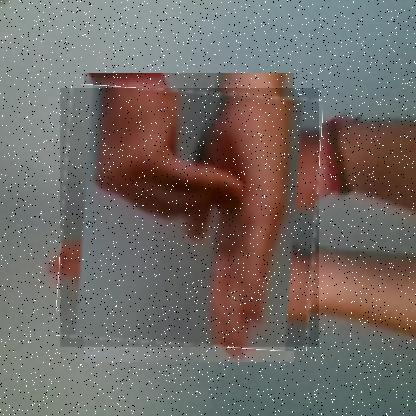Z: (59, 88, 319, 348)
